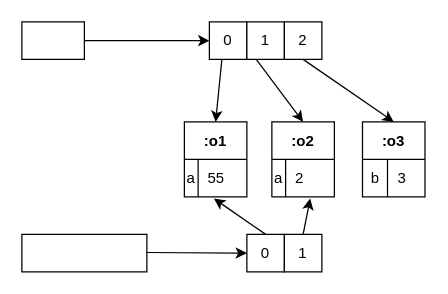
Some shapes in this 448 by 294 pixel diagram are drawn without their labels. The shapes that lost their labels are listed below. From the top down, each one's centre as x and y in pixels, then its label:
At [52,40]: "aObj".
At [84,252]: "aObjFiltered".
